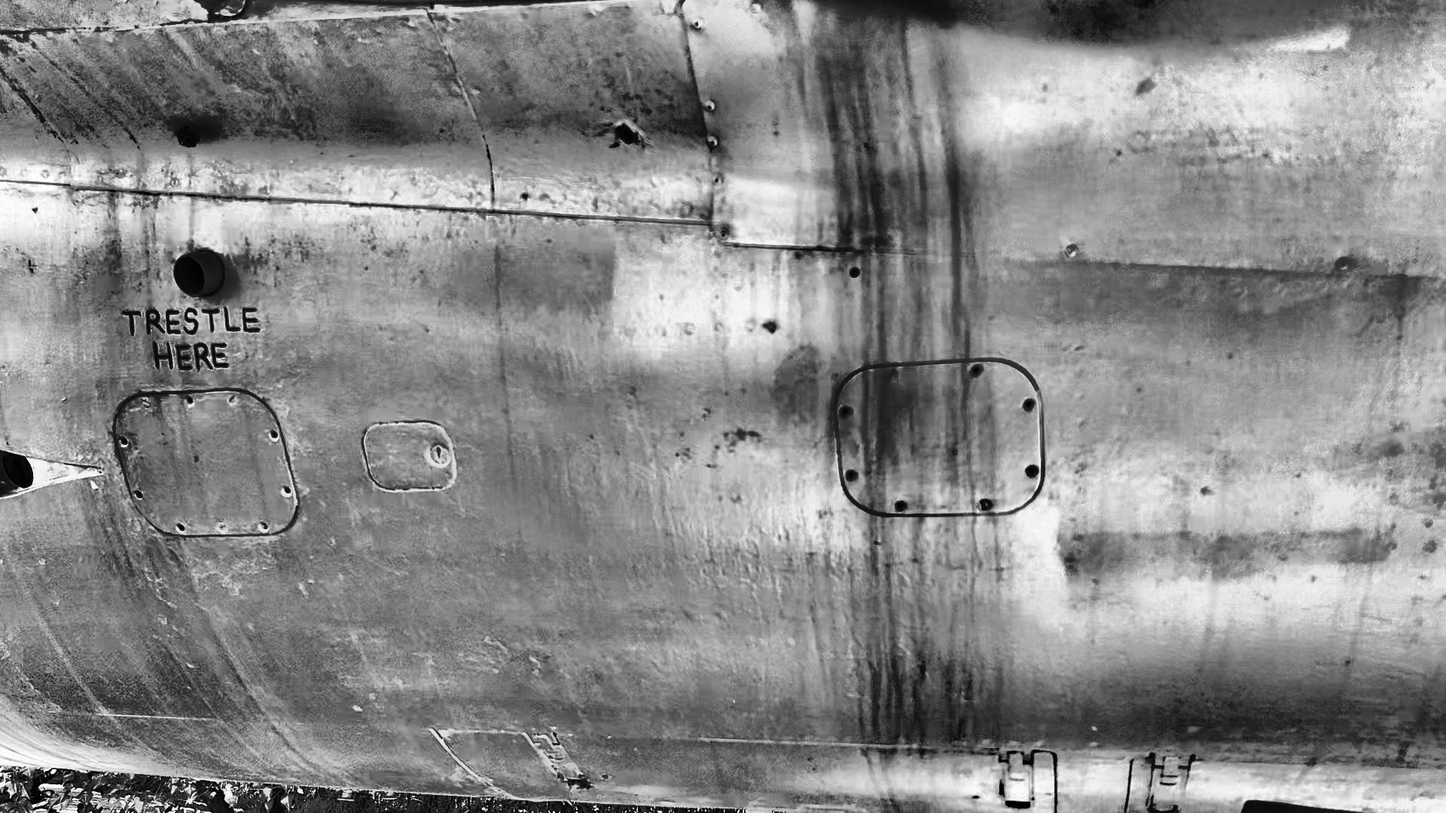crack: (160, 0, 250, 26)
missing-head: (969, 363, 981, 377), (1026, 464, 1038, 477), (1023, 398, 1034, 411), (895, 501, 907, 512), (840, 407, 851, 419), (184, 396, 195, 406), (270, 430, 279, 441), (135, 490, 144, 501), (176, 524, 187, 533), (847, 470, 856, 481), (120, 438, 129, 447), (283, 486, 291, 495)
paint-peel-off: (567, 773, 593, 790)
